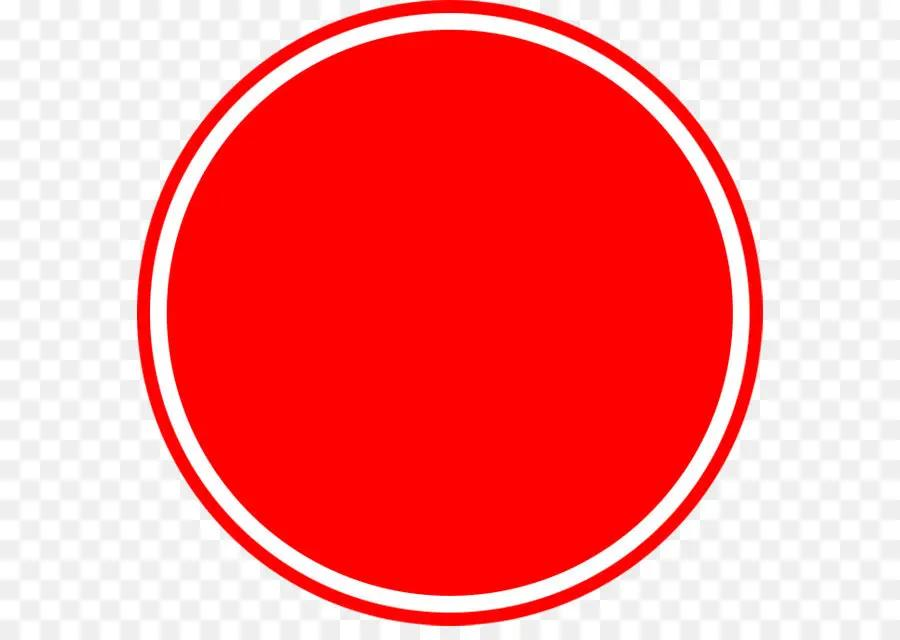red_circle: (133, 0, 770, 629)
